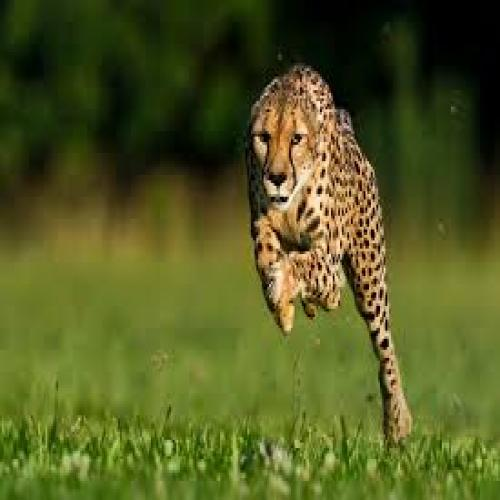cheetah-endangered: (244, 60, 411, 438)
